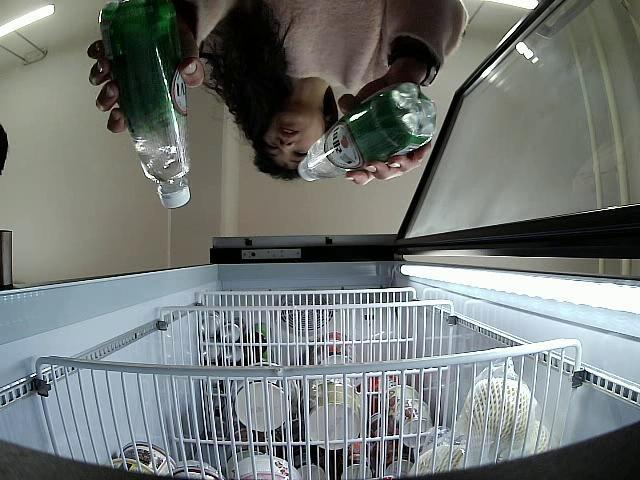18_trevi: (97, 0, 194, 213), (296, 82, 440, 186)
